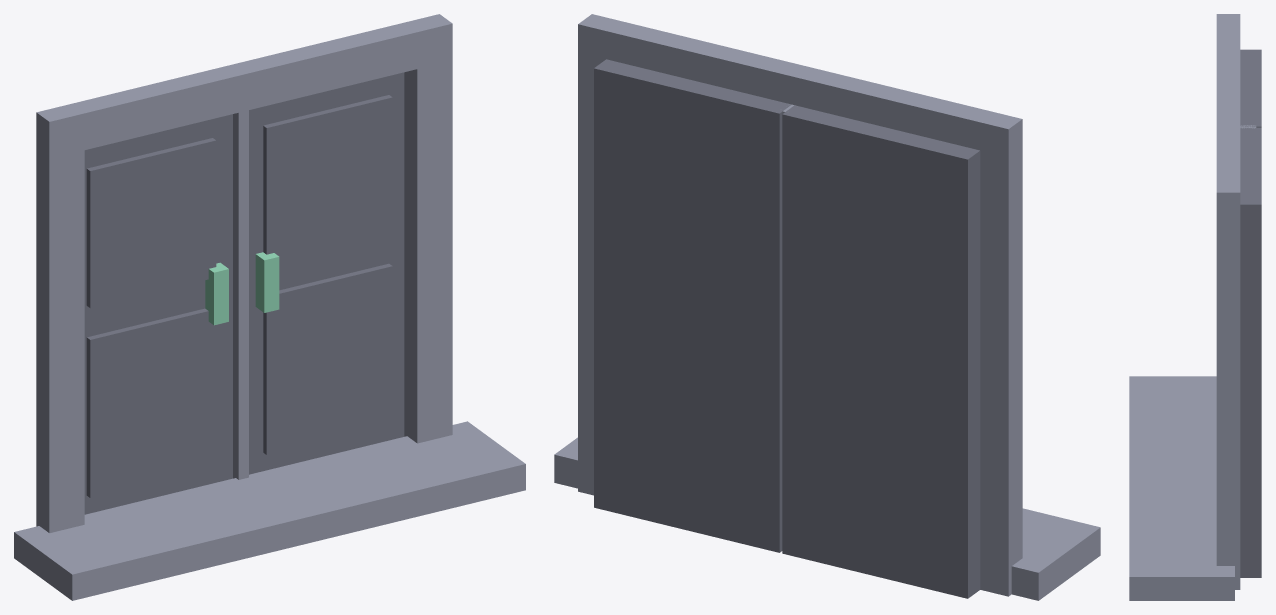
The model's file is door-double.glb.
3 renders of one model, left to right at view 1: azimuth 30°, elevation 25°; view 2: azimuth 150°, elevation 25°; view 3: azimuth 270°, elevation 25°, orthographic. The views are drawn at different scales.
Parts seen in each view (by area): view 1: door-double; view 2: door-double; view 3: door-double.
Boxes of the visible parts, x1,y1,x2,y2 form: door-double: (14,14,525,600); door-double: (554,14,1100,600); door-double: (1129,14,1261,600).
Bounding box in the file's own units: 0.9 × 0.83 × 0.25.
1 material, 1 textured.
